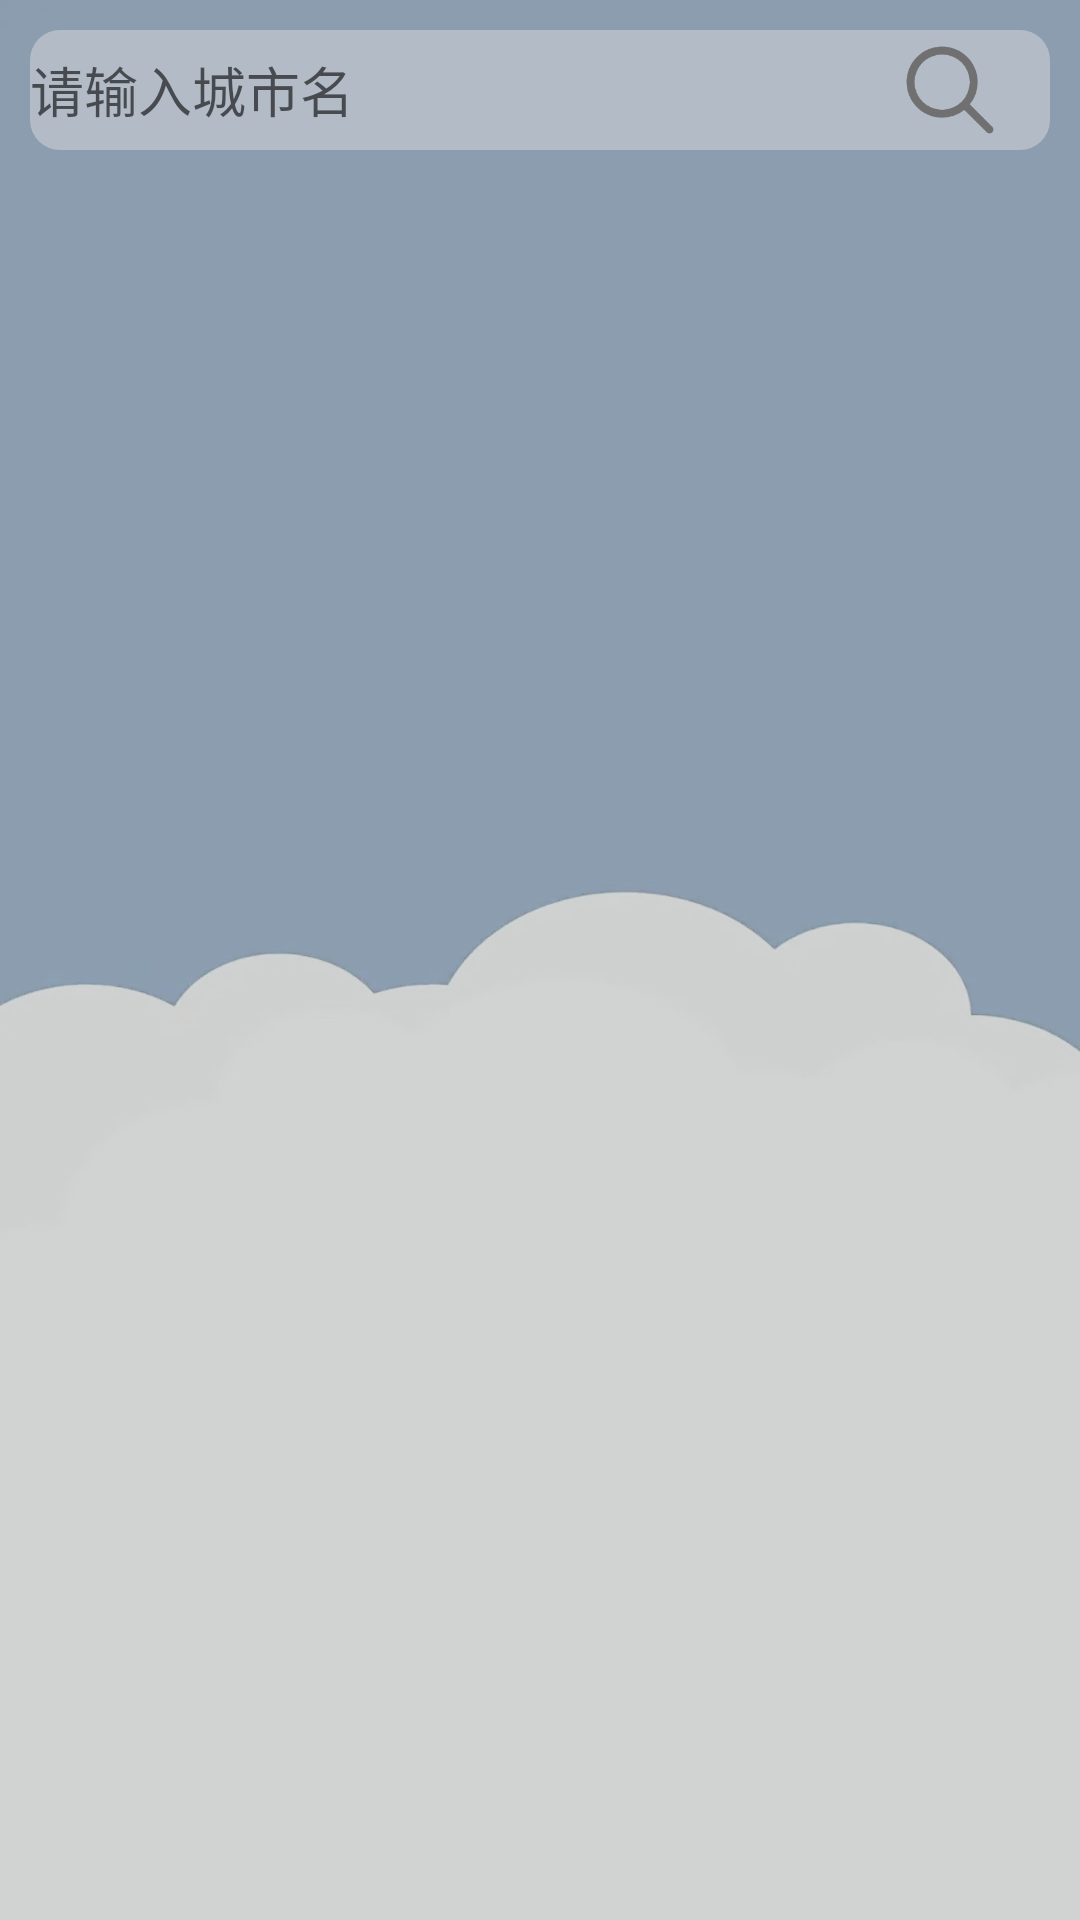

Screen size 1080×1920. Icon name, then its box in pixels as [x1=x1, y1=y1, x2=x2, y2=y2]:
find: [x1=850, y1=30, x2=1050, y2=150]
